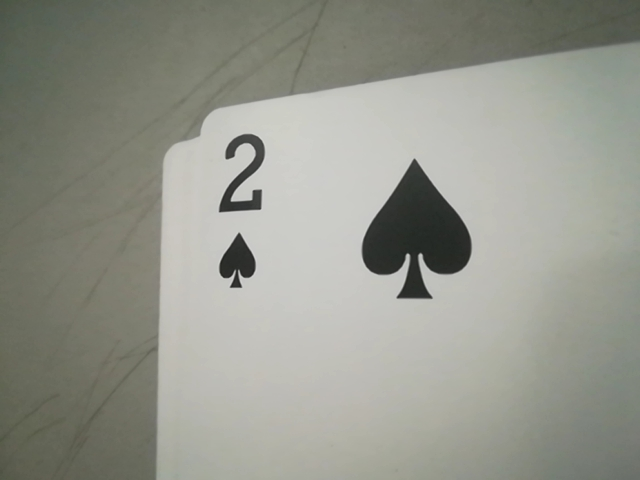ht 2: (199, 134, 292, 291)
